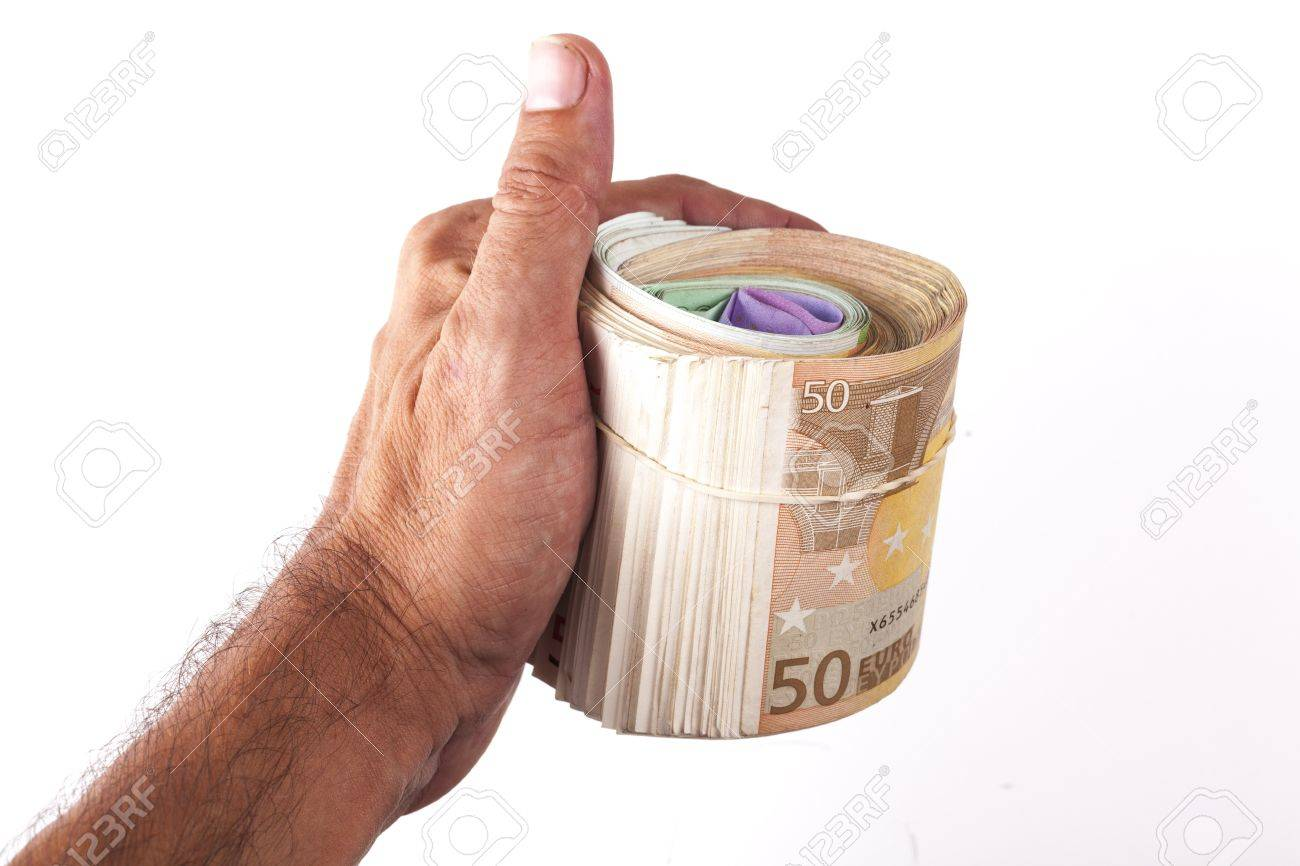billete: (520, 204, 971, 742)
